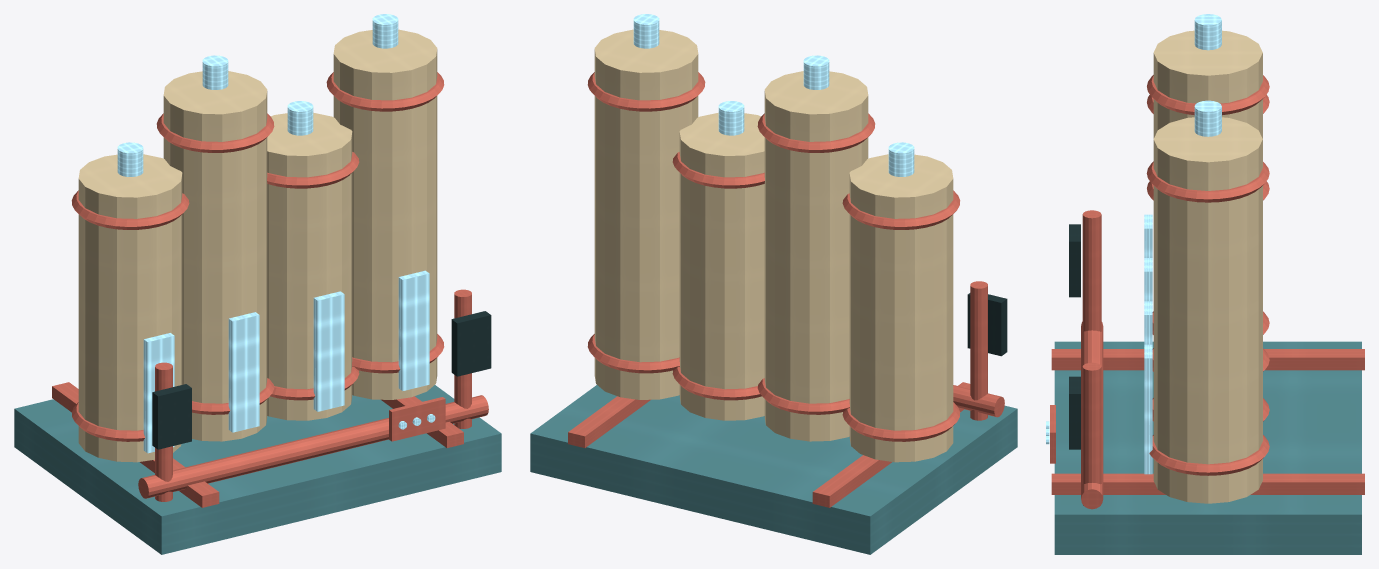
Rendered from atlas100-s078-a04.glb.
3 renders of one model, left to right at view 1: azimuth 30°, elevation 25°; view 2: azimuth 150°, elevation 25°; view 3: azimuth 270°, elevation 25°, orthographic. The views are drawn at different scales.
Parts seen in each view (by area): view 1: atlas100-s078-a04:part-000, atlas100-s078-a04:part-018, atlas100-s078-a04:part-008, atlas100-s078-a04:part-003, atlas100-s078-a04:part-013, atlas100-s078-a04:part-027, atlas100-s078-a04:part-012, atlas100-s078-a04:part-017, atlas100-s078-a04:part-022, atlas100-s078-a04:part-026, atlas100-s078-a04:part-024, atlas100-s078-a04:part-007 (+17 smaller); view 2: atlas100-s078-a04:part-000, atlas100-s078-a04:part-008, atlas100-s078-a04:part-018, atlas100-s078-a04:part-003, atlas100-s078-a04:part-013, atlas100-s078-a04:part-023, atlas100-s078-a04:part-001, atlas100-s078-a04:part-002, atlas100-s078-a04:part-020, atlas100-s078-a04:part-010, atlas100-s078-a04:part-005, atlas100-s078-a04:part-004 (+10 smaller); view 3: atlas100-s078-a04:part-018, atlas100-s078-a04:part-000, atlas100-s078-a04:part-008, atlas100-s078-a04:part-002, atlas100-s078-a04:part-001, atlas100-s078-a04:part-023, atlas100-s078-a04:part-025, atlas100-s078-a04:part-027, atlas100-s078-a04:part-020, atlas100-s078-a04:part-019, atlas100-s078-a04:part-010, atlas100-s078-a04:part-022 (+7 smaller).
Boxes of the visible parts, x1,y1,x2,y2 form: atlas100-s078-a04:part-000: (14,385,501,554); atlas100-s078-a04:part-018: (333,29,437,399); atlas100-s078-a04:part-008: (163,71,267,441); atlas100-s078-a04:part-003: (78,154,182,462); atlas100-s078-a04:part-013: (267,112,352,420); atlas100-s078-a04:part-027: (138,395,488,498); atlas100-s078-a04:part-012: (228,312,259,432); atlas100-s078-a04:part-017: (313,291,344,411); atlas100-s078-a04:part-022: (398,270,429,390); atlas100-s078-a04:part-026: (451,311,491,376); atlas100-s078-a04:part-024: (152,384,191,449); atlas100-s078-a04:part-007: (143,333,174,453); atlas100-s078-a04:part-000: (530,385,1017,554); atlas100-s078-a04:part-008: (764,71,868,441); atlas100-s078-a04:part-018: (594,29,698,399); atlas100-s078-a04:part-003: (849,154,953,462); atlas100-s078-a04:part-013: (679,112,764,420); atlas100-s078-a04:part-023: (970,281,987,420); atlas100-s078-a04:part-001: (812,382,970,507); atlas100-s078-a04:part-002: (568,396,650,447); atlas100-s078-a04:part-020: (587,72,705,111); atlas100-s078-a04:part-010: (757,113,875,152); atlas100-s078-a04:part-005: (842,190,960,229); atlas100-s078-a04:part-004: (842,402,960,441); atlas100-s078-a04:part-018: (1153,117,1262,503); atlas100-s078-a04:part-000: (1054,341,1361,554); atlas100-s078-a04:part-008: (1153,30,1262,138); atlas100-s078-a04:part-002: (1051,473,1364,494); atlas100-s078-a04:part-001: (1051,349,1364,370); atlas100-s078-a04:part-023: (1082,210,1101,331); atlas100-s078-a04:part-025: (1082,362,1101,505); atlas100-s078-a04:part-027: (1081,321,1103,509); atlas100-s078-a04:part-020: (1146,161,1269,202); atlas100-s078-a04:part-019: (1149,435,1269,475); atlas100-s078-a04:part-010: (1147,75,1269,115); atlas100-s078-a04:part-022: (1144,344,1152,474).
Size of the model in its own units: 2.52 by 2.76 by 1.87.
Materials: 5 (5 with a texture image).
